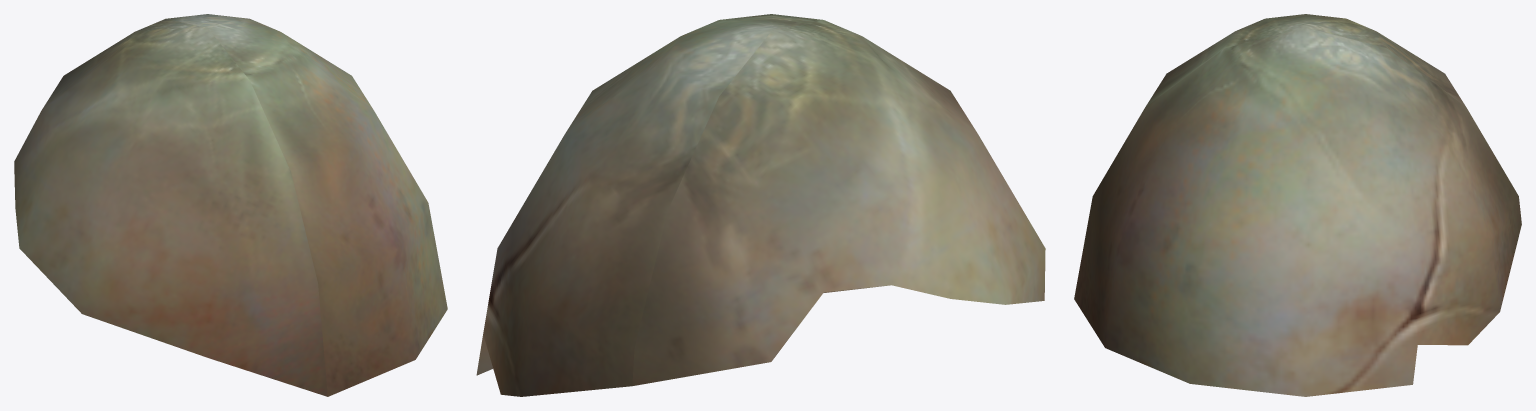
File: D_longdan009.fbx
3 views of the same model, side by side, from view 1: azimuth 30°, elevation 25°; view 2: azimuth 150°, elevation 25°; view 3: azimuth 270°, elevation 25° (orthographic). The views are drawn at different scales.
Visible parts, largest first — view 1: D_longdan009; view 2: D_longdan009; view 3: D_longdan009.
Boxes of the visible parts, bbox=[...] form: D_longdan009: bbox=[14, 14, 447, 396]; D_longdan009: bbox=[476, 14, 1045, 396]; D_longdan009: bbox=[1074, 14, 1521, 396].
Bounding box in the file's own units: 422 × 286 × 427.
